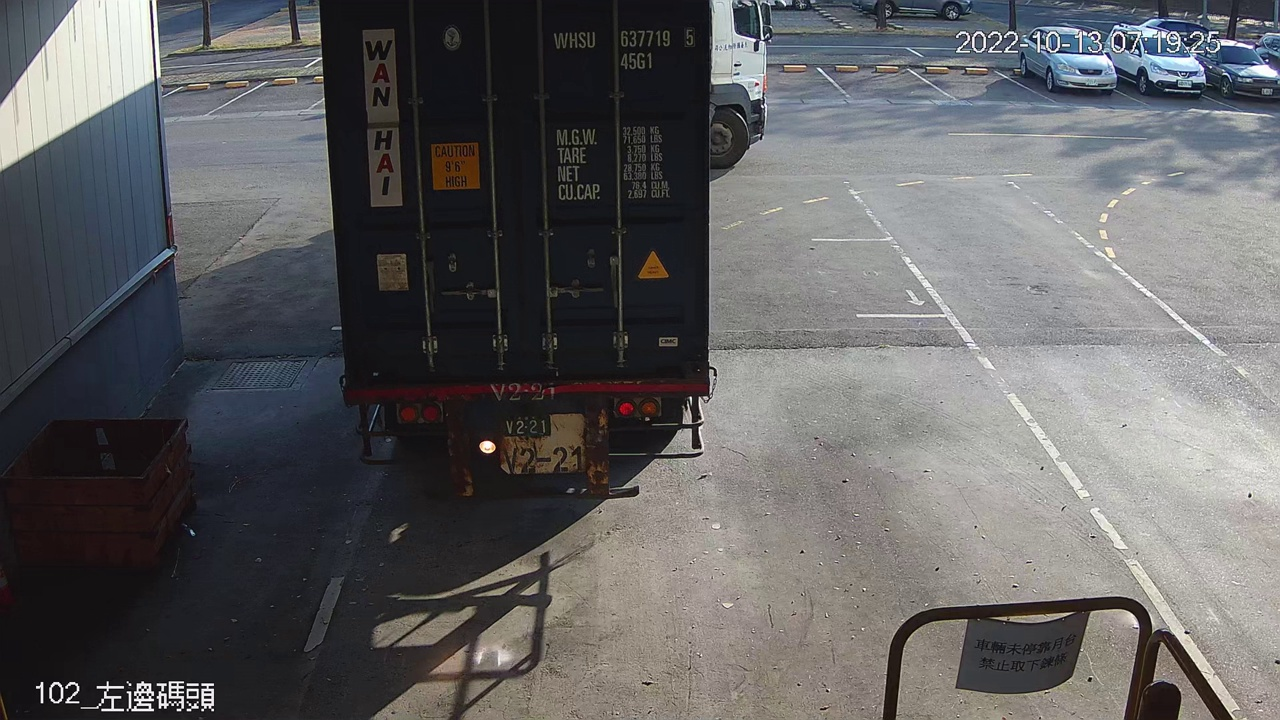container: (546, 21, 701, 76)
